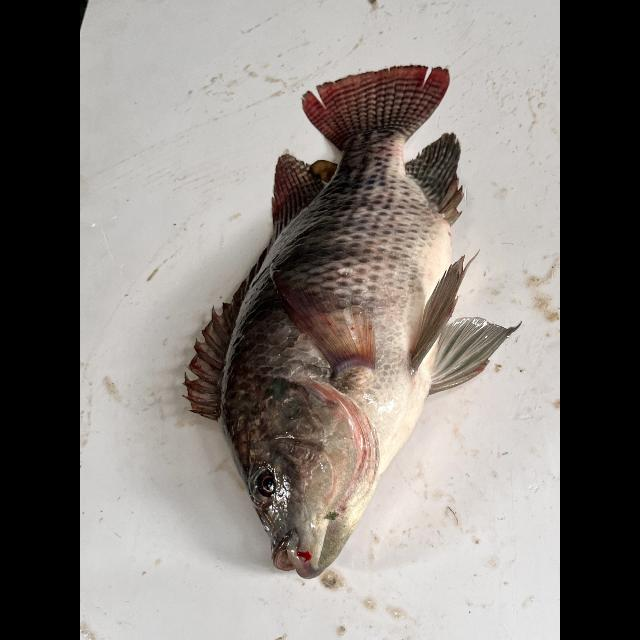Tilapia: (182, 65, 520, 580)
